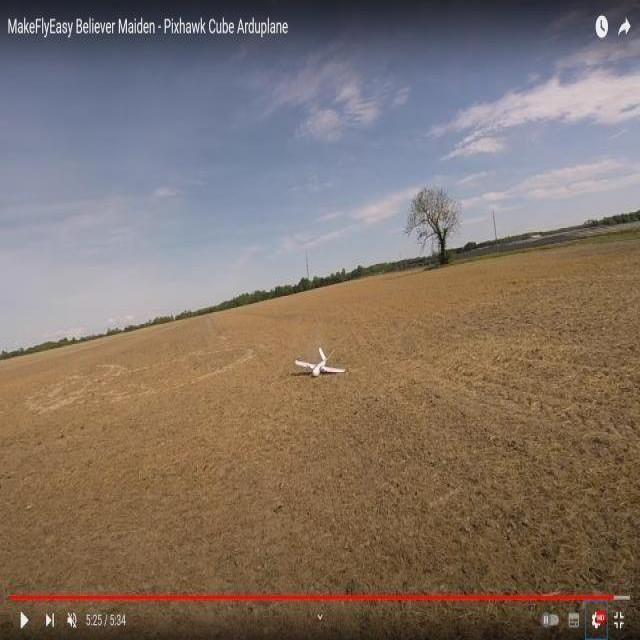UAV: (302, 343, 346, 388)
